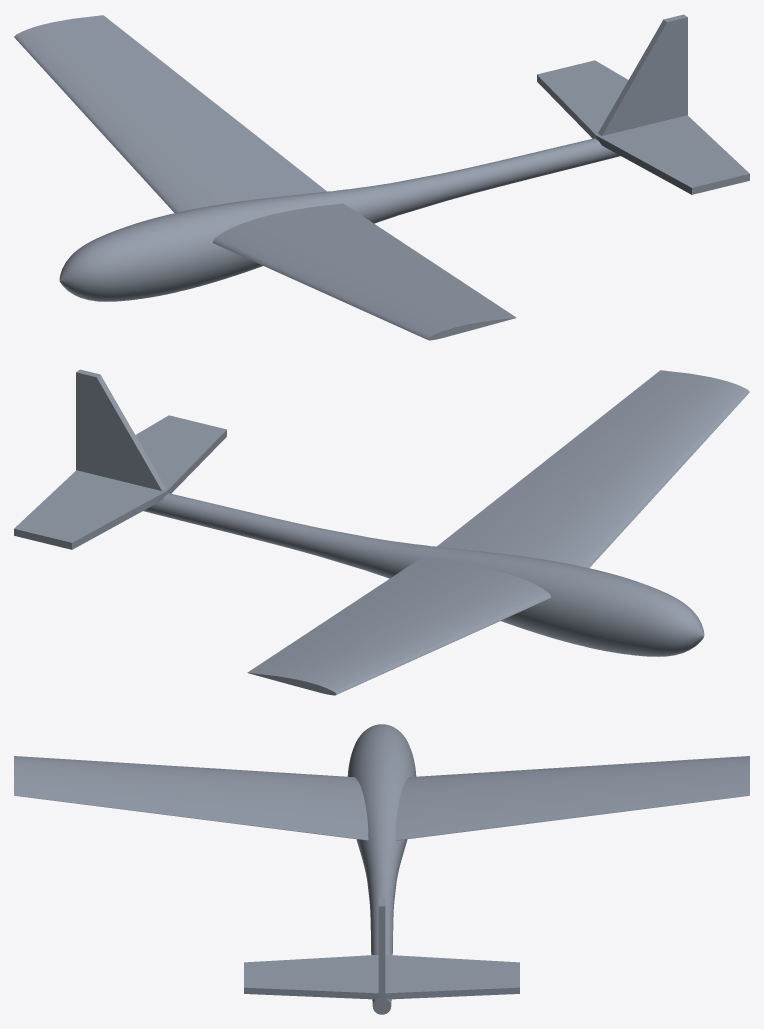
Rendered from step-4.glb.
The picture shows the model from 3 angles, top to bottom: view 1: azimuth 30°, elevation 25°; view 2: azimuth 150°, elevation 25°; view 3: azimuth 270°, elevation 25°; orthographic projection. The views are drawn at different scales.
Visible parts, largest first — view 1: face_1b6819f219a328fa14c4, face_0693d4fd1a5764766391, face_d33251d08d022978a54a, face_76a3fb0b22056808802d, face_658e2ca4811a72044629, face_57a8f3beee3c2707dafd, face_3b3e4980c0586935a9ae; view 2: face_d33251d08d022978a54a, face_0693d4fd1a5764766391, face_1b6819f219a328fa14c4, face_76a3fb0b22056808802d, face_406c362d7a0ff2adb41b, face_c5007920976ef4ee8372, face_3b3e4980c0586935a9ae; view 3: face_d33251d08d022978a54a, face_1b6819f219a328fa14c4, face_76a3fb0b22056808802d, face_0693d4fd1a5764766391, face_70dc61fc1ed8a2a74dee, face_ee4de867488a868859d9, face_ab595e4eb4a85a1cb766.
Part boxes in pixels (left/top/right/bottom): face_1b6819f219a328fa14c4: left=14, top=15, right=326, bottom=212; face_0693d4fd1a5764766391: left=59, top=138, right=620, bottom=301; face_d33251d08d022978a54a: left=212, top=203, right=515, bottom=339; face_76a3fb0b22056808802d: left=537, top=60, right=749, bottom=187; face_658e2ca4811a72044629: left=602, top=17, right=687, bottom=135; face_57a8f3beee3c2707dafd: left=596, top=135, right=691, bottom=194; face_3b3e4980c0586935a9ae: left=598, top=19, right=666, bottom=135; face_d33251d08d022978a54a: left=437, top=370, right=749, bottom=567; face_0693d4fd1a5764766391: left=143, top=493, right=704, bottom=656; face_1b6819f219a328fa14c4: left=248, top=558, right=551, bottom=694; face_76a3fb0b22056808802d: left=14, top=415, right=226, bottom=542; face_406c362d7a0ff2adb41b: left=76, top=372, right=161, bottom=490; face_c5007920976ef4ee8372: left=72, top=490, right=167, bottom=549; face_3b3e4980c0586935a9ae: left=97, top=374, right=165, bottom=490; face_d33251d08d022978a54a: left=14, top=756, right=368, bottom=840; face_1b6819f219a328fa14c4: left=395, top=756, right=749, bottom=840; face_76a3fb0b22056808802d: left=244, top=955, right=519, bottom=993; face_0693d4fd1a5764766391: left=347, top=724, right=416, bottom=1005; face_70dc61fc1ed8a2a74dee: left=244, top=987, right=379, bottom=999; face_ee4de867488a868859d9: left=384, top=987, right=519, bottom=999; face_ab595e4eb4a85a1cb766: left=378, top=906, right=385, bottom=997.
Bounding box in the file's own units: 0.14 × 0.0315 × 0.16.
